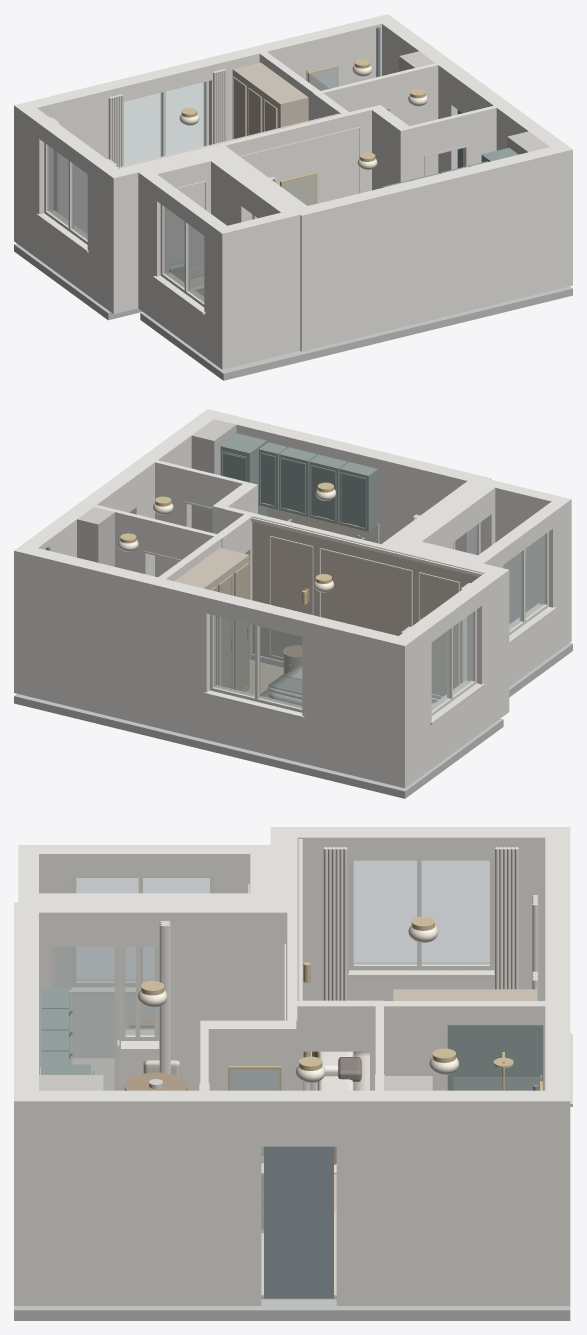
Rendered from apartment-furnished.glb.
3 renders of one model, top to bottom at view 1: azimuth 30°, elevation 25°; view 2: azimuth 150°, elevation 25°; view 3: azimuth 270°, elevation 25°, orthographic. The views are drawn at different scales.
Visible parts, largest first — view 1: Южная наружная конец, Южная лоджии конец, Между комнатами конец, Северная наружная конец, Северная наружная простенок 0, Южная комнаты 1 наружная конец, Северная наружная окно 0 стекло, Северная лоджии конец, Западная комнаты 1 простенок 0, Восточная наружная простенок 0, Плита нижней части, Уступ прихожей конец (+35 smaller); view 2: Северная наружная конец, Северная наружная простенок 0, Спальня — акцентная стена, Южная наружная конец, Северная наружная окно 0 стекло, Плита верхней части, Южная лоджии конец, Северная наружная под проёмом 0, Западная комнаты 1 конец, Восточная наружная конец, Западная комнаты 1 простенок 0, Западная комнаты 1 окно 0 стекло (+50 smaller); view 3: Восточная наружная конец, Восточная наружная простенок 0, Комната 2 — лоджия простенок 0, Западная комнаты 1 окно 0 стекло, Входная дверь условная, Южная наружная конец, Северная наружная конец, Комната 1 — санузел конец, Балконная дверь стекло, Душевая акцентная стена, Спальня складка шторы (×8), Уступ прихожей конец (+38 smaller).
Boxes of the visible parts, x1,y1,x2,y2 form: Южная наружная конец: [293, 143, 572, 351]; Южная лоджии конец: [215, 210, 300, 369]; Между комнатами конец: [222, 107, 371, 205]; Северная наружная конец: [203, 14, 395, 145]; Северная наружная простенок 0: [14, 81, 120, 246]; Южная комнаты 1 наружная конец: [105, 143, 224, 314]; Северная наружная окно 0 стекло: [123, 82, 205, 165]; Северная лоджии конец: [138, 156, 210, 312]; Западная комнаты 1 простенок 0: [22, 108, 53, 259]; Восточная наружная простенок 0: [382, 20, 464, 172]; Плита нижней части: [297, 286, 572, 361]; Уступ прихожей конец: [369, 105, 412, 190]; Северная наружная конец: [14, 544, 215, 739]; Северная наружная простенок 0: [302, 614, 413, 788]; Спальня — акцентная стена: [252, 516, 483, 699]; Южная наружная конец: [199, 409, 491, 543]; Северная наружная окно 0 стекло: [214, 615, 302, 708]; Плита верхней части: [14, 693, 503, 798]; Южная лоджии конец: [483, 479, 571, 646]; Северная наружная под проёмом 0: [206, 690, 302, 762]; Западная комнаты 1 конец: [467, 573, 499, 731]; Восточная наружная конец: [122, 415, 213, 576]; Западная комнаты 1 простенок 0: [399, 623, 431, 781]; Западная комнаты 1 окно 0 стекло: [431, 612, 473, 710]; Восточная наружная конец: [39, 1090, 261, 1305]; Восточная наружная простенок 0: [336, 1090, 545, 1305]; Комната 2 — лоджия простенок 0: [159, 893, 287, 1090]; Западная комнаты 1 окно 0 стекло: [353, 860, 489, 964]; Входная дверь условная: [264, 1146, 333, 1298]; Южная наружная конец: [14, 902, 38, 1305]; Северная наружная конец: [545, 966, 570, 1305]; Комната 1 — санузел конец: [384, 1001, 545, 1090]; Балконная дверь стекло: [54, 947, 114, 1090]; Душевая акцентная стена: [447, 1024, 543, 1090]; Спальня складка шторы (×8): [323, 847, 518, 1000]; Уступ прихожей конец: [200, 1020, 296, 1233].
Size of the model in its own units: 7.8 by 2.9 by 6.69.
